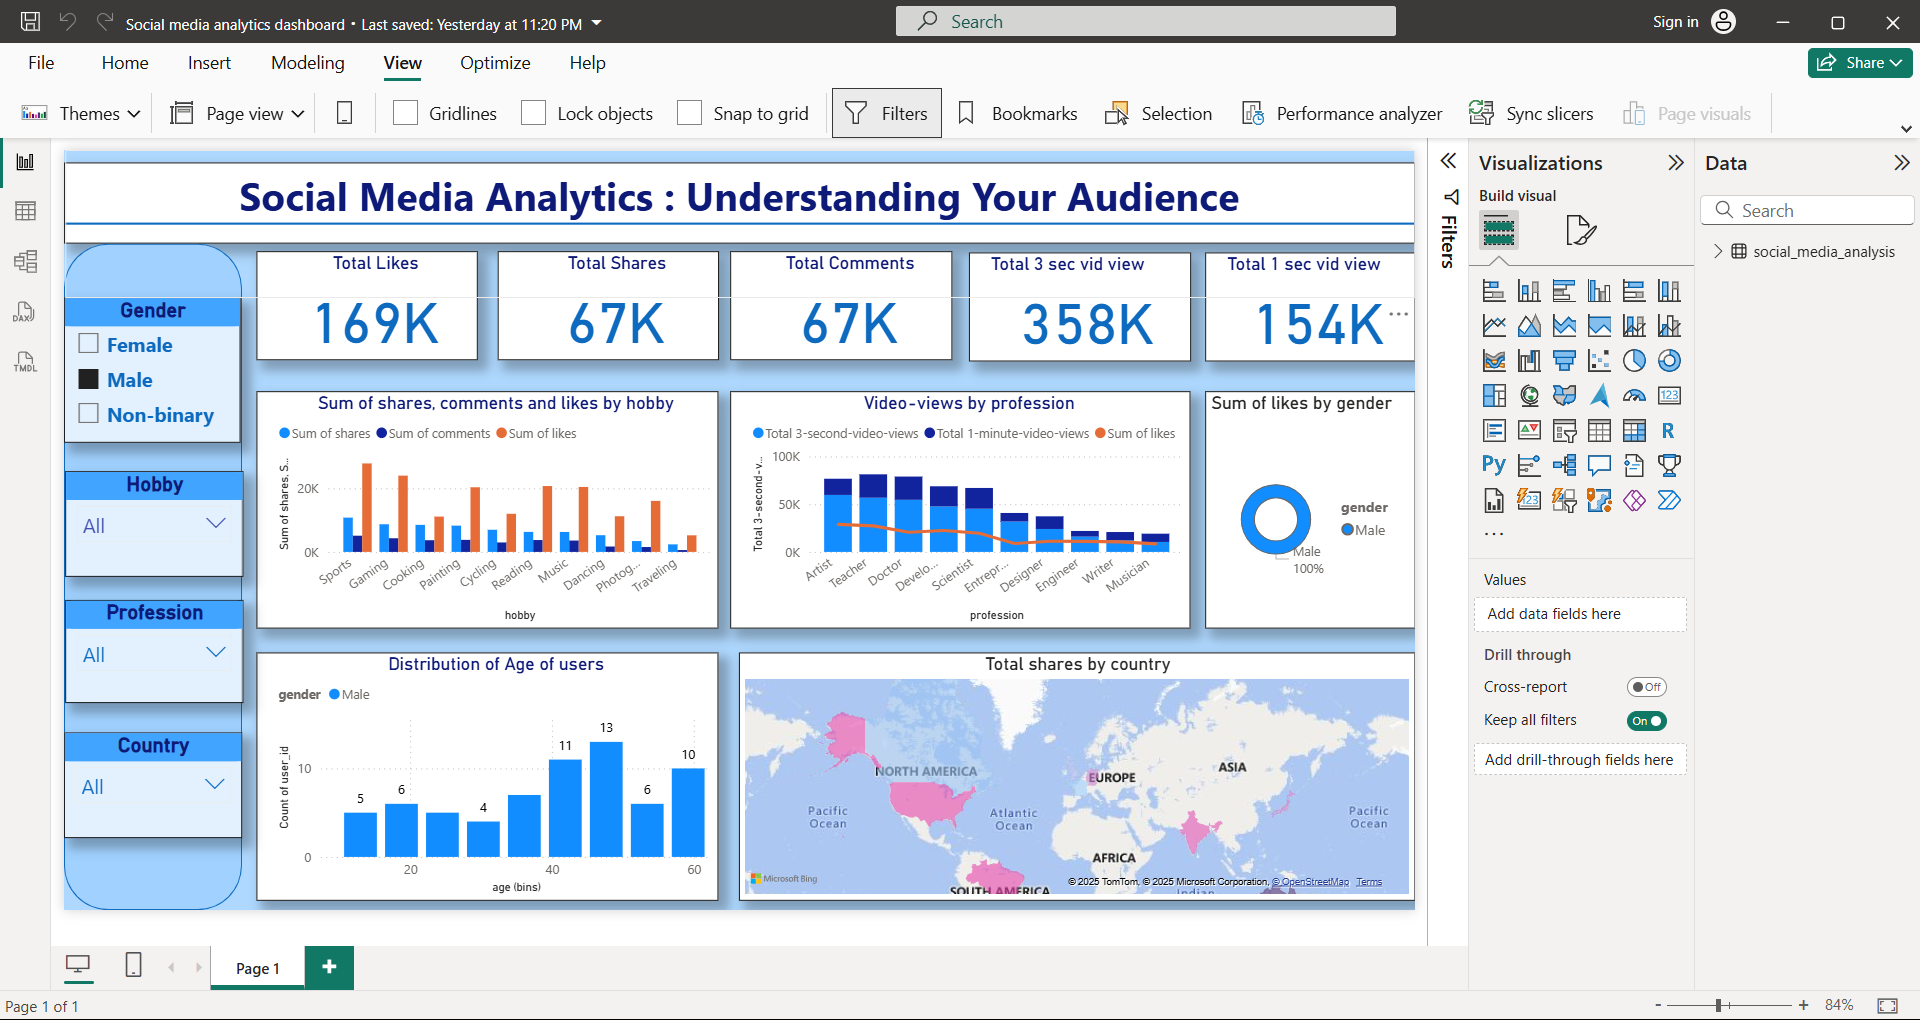

The dashboard page shown, as its layout file describes it:
{"tool":"powerbi","page":{"name":"Page 1","canvas":[1280,720],"ordinal":0},"visuals":[{"type":"textbox","box":[0,11.6,1280.2,76.7],"z":0},{"type":"card","title":"Total Likes","fields":{"Values":["Sum(social_media_analysis.likes)"]},"box":[182.6,96.5,209.3,103.5],"z":1000},{"type":"card","title":"Total Shares","fields":{"Values":["Sum(social_media_analysis.shares)"]},"box":[410.5,95.3,209.3,103.5],"z":2000},{"type":"card","title":"Total Comments","fields":{"Values":["Sum(social_media_analysis.shares)"]},"box":[631.4,96.5,210.5,103.5],"z":3000},{"type":"card","title":"Total 3 sec vid view","fields":{"Values":["Sum(social_media_analysis.3-second-video-views)"]},"box":[857,97.7,210.5,103.5],"z":4000},{"type":"card","title":"Total 1 sec vid view","fields":{"Values":["Sum(social_media_analysis.1-minute-video-views)"]},"box":[1081.4,97.7,198.8,103.5],"z":5000},{"type":"clusteredColumnChart","title":"Sum of shares, comments and likes by hobby","fields":{"Category":["social_media_analysis.hobby"],"Y":["Sum(social_media_analysis.shares)","Sum(social_media_analysis.comments)","Sum(social_media_analysis.likes)"]},"box":[182.6,229.1,437.2,224.4],"z":6000},{"type":"lineStackedColumnComboChart","title":"Video-views by profession","fields":{"Category":["social_media_analysis.profession"],"Y":["Sum(social_media_analysis.3-second-video-views)","Sum(social_media_analysis.1-minute-video-views)"],"Y2":["Sum(social_media_analysis.likes)"]},"box":[631.4,229.1,436,224.4],"z":7000},{"type":"donutChart","fields":{"Category":["social_media_analysis.gender"],"Y":["Sum(social_media_analysis.likes)"]},"box":[1081.4,229.1,198.8,224.4],"z":8000},{"type":"shape","box":[0,88.4,168.6,631.4],"z":9000},{"type":"columnChart","title":"Distribution of Age of users","fields":{"Category":["social_media_analysis.age (bins)"],"Y":["CountNonNull(social_media_analysis.user_id)"],"Series":["social_media_analysis.gender"]},"box":[182.6,475.6,437.2,234.9],"z":10000},{"type":"slicer","title":"Gender","fields":{"Values":["social_media_analysis.gender"]},"box":[0,139.5,167.4,137.2],"z":11000},{"type":"slicer","title":"Hobby","fields":{"Values":["social_media_analysis.hobby"]},"box":[1.2,304.7,168.6,100],"z":12000},{"type":"slicer","title":"Profession","fields":{"Values":["social_media_analysis.hobby"]},"box":[1.2,426.7,168.6,97.7],"z":13000},{"type":"filledMap","title":"Total shares by country","fields":{"Category":["social_media_analysis.country"]},"box":[639.5,475.6,640.7,234.9],"z":14000},{"type":"slicer","title":"Country","fields":{"Values":["social_media_analysis.hobby"]},"box":[0,552.3,168.6,100],"z":14002},{"type":"shape","box":[1.2,0,1279.1,139.5],"z":14003}]}

Visuals, with their boxes on the page's 1280x720 design canvas (x1, y1, x2, y2). These are canvas units, not pixel positions in the 1920x1020 screenshot, which may show the page scaled, cropped or inside an application window:
textbox: bbox=(0, 12, 1280, 88)
"Total Likes" card: bbox=(183, 96, 392, 200)
"Total Shares" card: bbox=(410, 95, 620, 199)
"Total Comments" card: bbox=(631, 96, 842, 200)
"Total 3 sec vid view" card: bbox=(857, 98, 1068, 201)
"Total 1 sec vid view" card: bbox=(1081, 98, 1280, 201)
"Sum of shares, comments and likes by hobby" clusteredColumnChart: bbox=(183, 229, 620, 454)
"Video-views by profession" lineStackedColumnComboChart: bbox=(631, 229, 1067, 454)
donutChart - social_media_analysis.gender x Sum(social_media_analysis.likes): bbox=(1081, 229, 1280, 454)
shape: bbox=(0, 88, 169, 720)
"Distribution of Age of users" columnChart: bbox=(183, 476, 620, 710)
"Gender" slicer: bbox=(0, 140, 167, 277)
"Hobby" slicer: bbox=(1, 305, 170, 405)
"Profession" slicer: bbox=(1, 427, 170, 524)
"Total shares by country" filledMap: bbox=(640, 476, 1280, 710)
"Country" slicer: bbox=(0, 552, 169, 652)
shape: bbox=(1, 0, 1280, 140)
